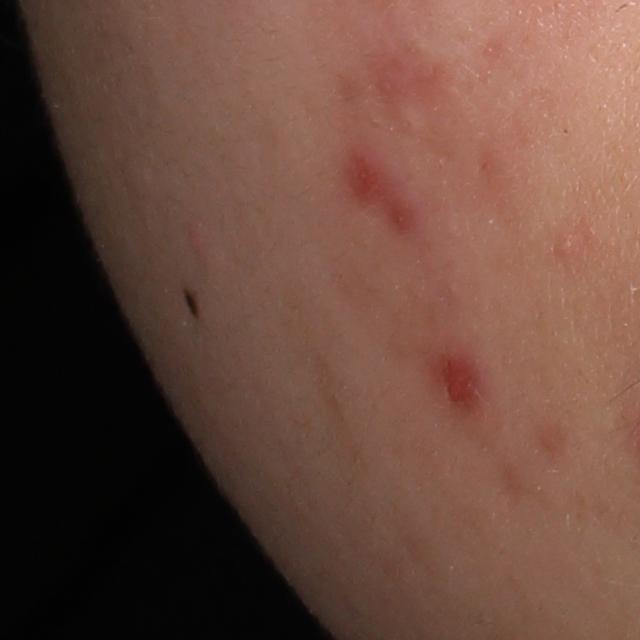nevus: (179, 286, 206, 324)
papule: (344, 148, 388, 210), (549, 230, 584, 260), (186, 224, 213, 259)
